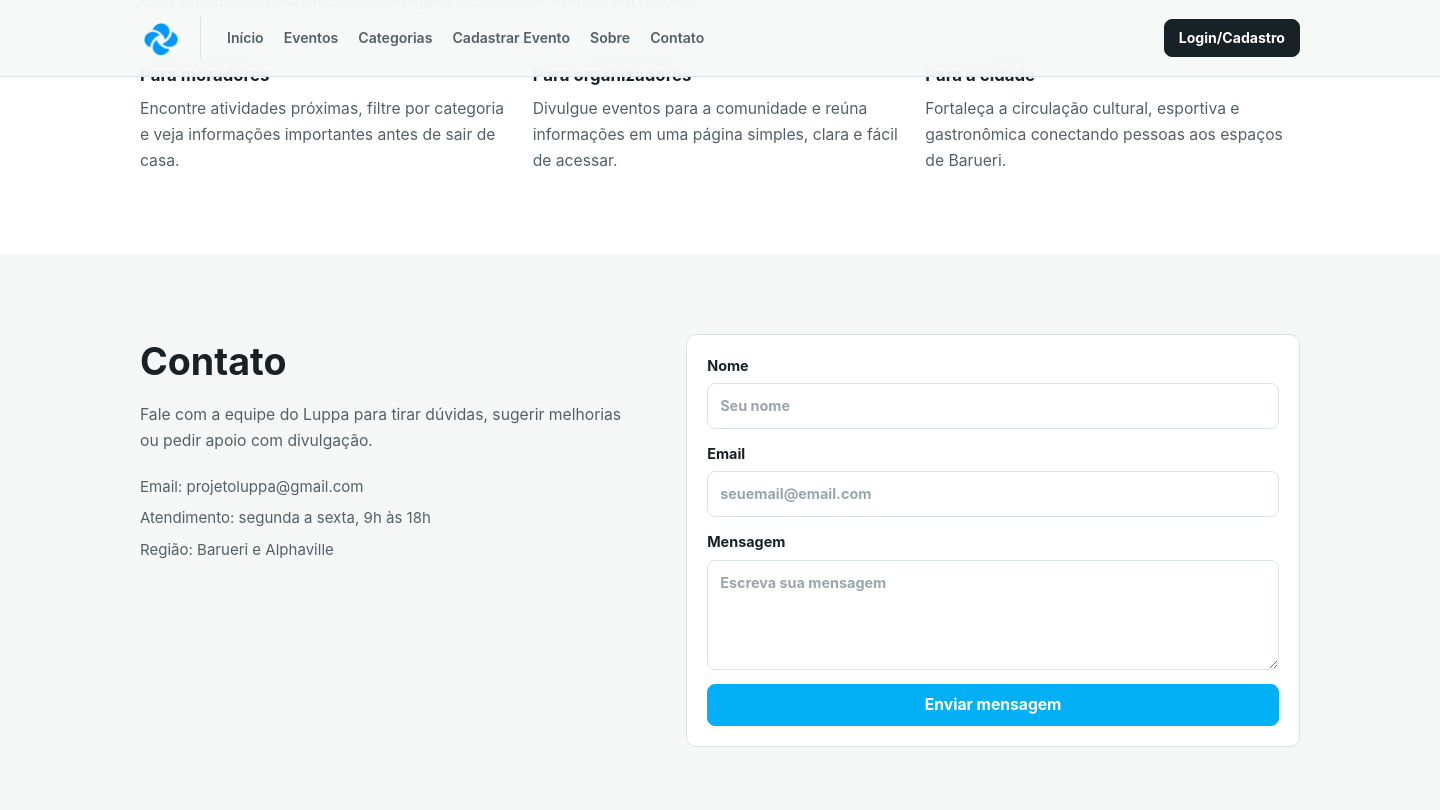
Test: Home contact › preserves the message and shows a real error on provider failure
The width and height of the screenshot is (1440, 810).
(page scrolled)
Type "Ana" into the field with placeholder "Seu nome".
click(993, 406); type("Ana")  # box [707,383,1279,429]
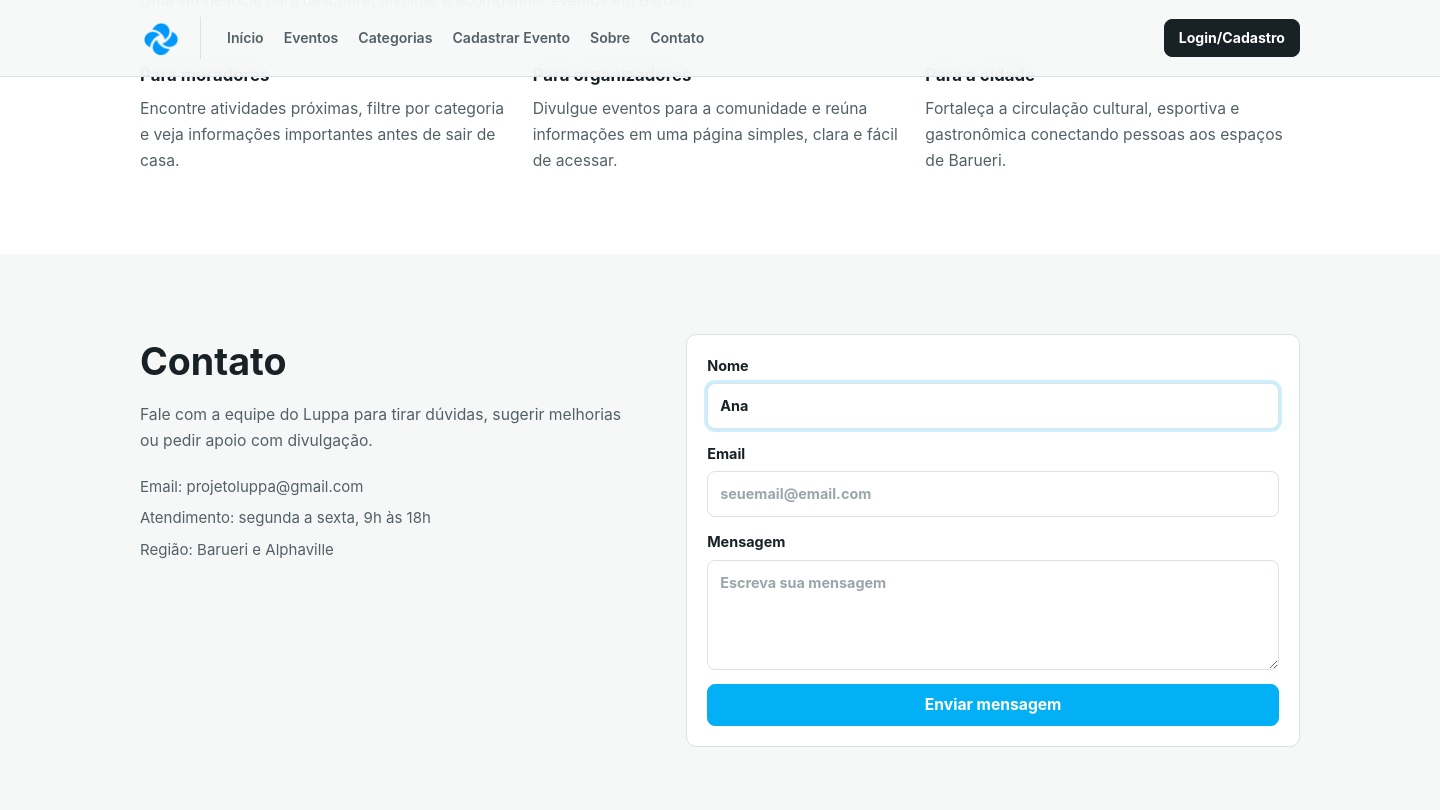
Type "ana@example.com" into the field with placeholder "seuemail@email.com".
click(993, 494); type("ana@example.com")  # box [707,471,1279,517]
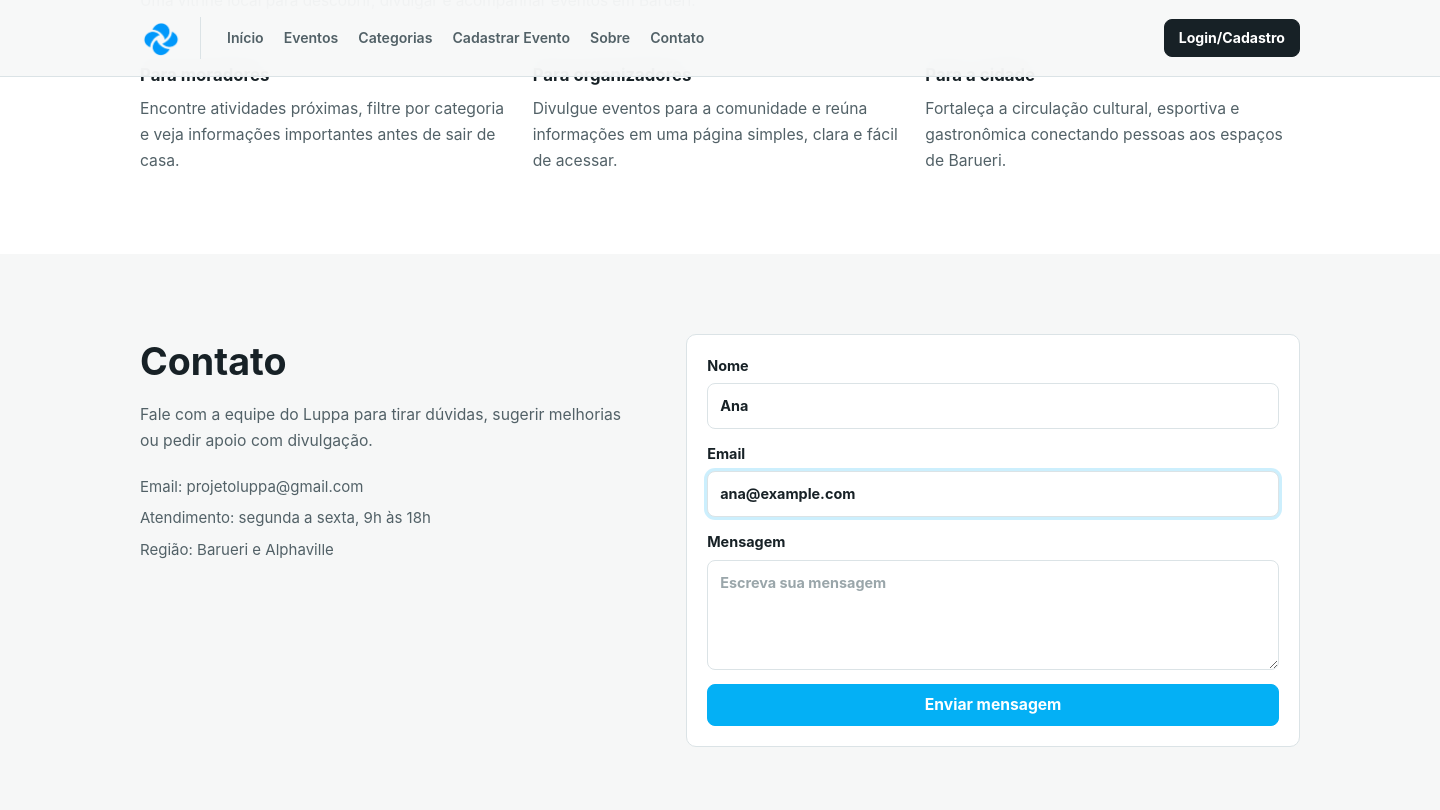
Type "Preciso de ajuda" into the text box with placeholder "Escreva sua mensagem".
click(993, 615); type("Preciso de ajuda")  # box [707,560,1279,670]
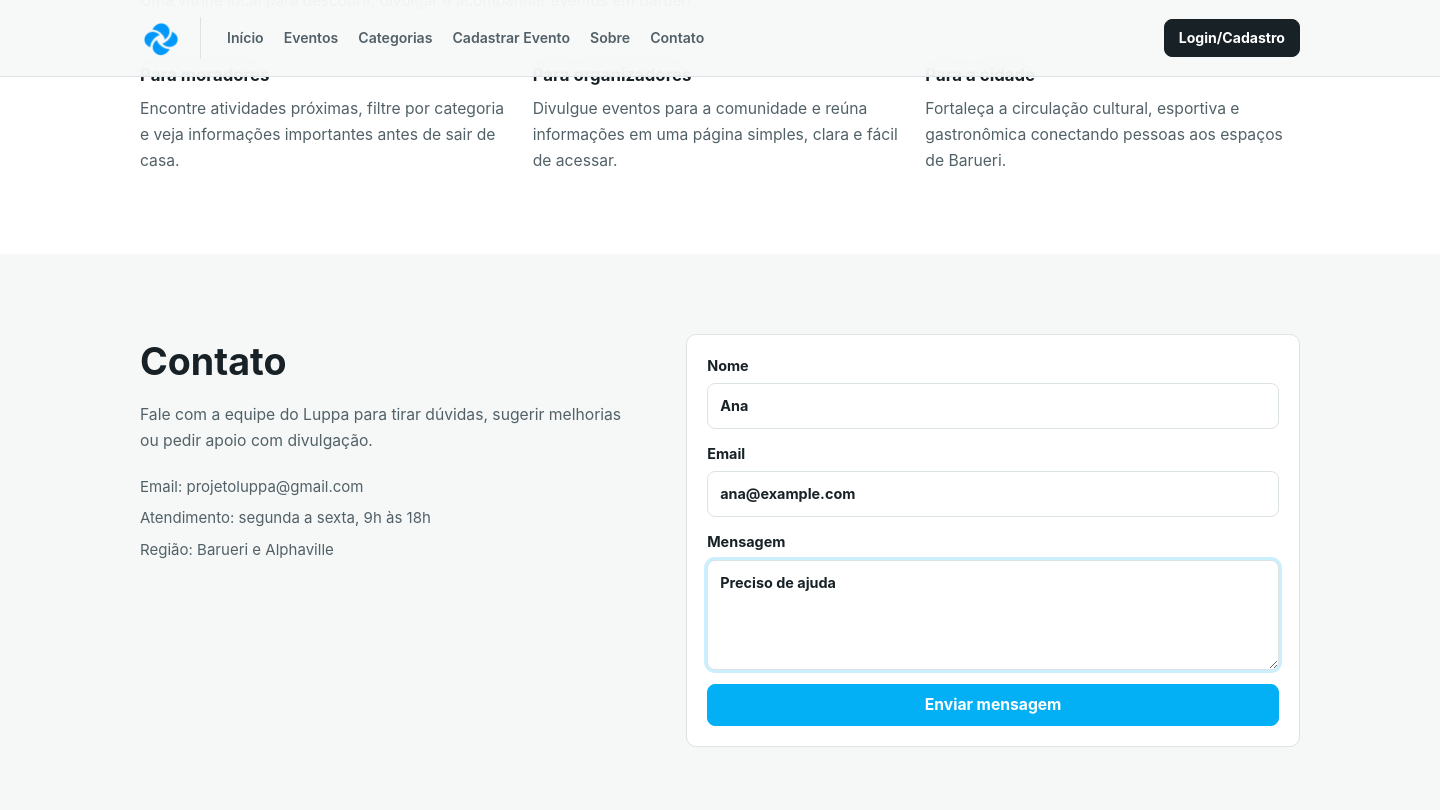
Click the button "Enviar mensagem".
click(993, 705)  # box [707,684,1279,726]
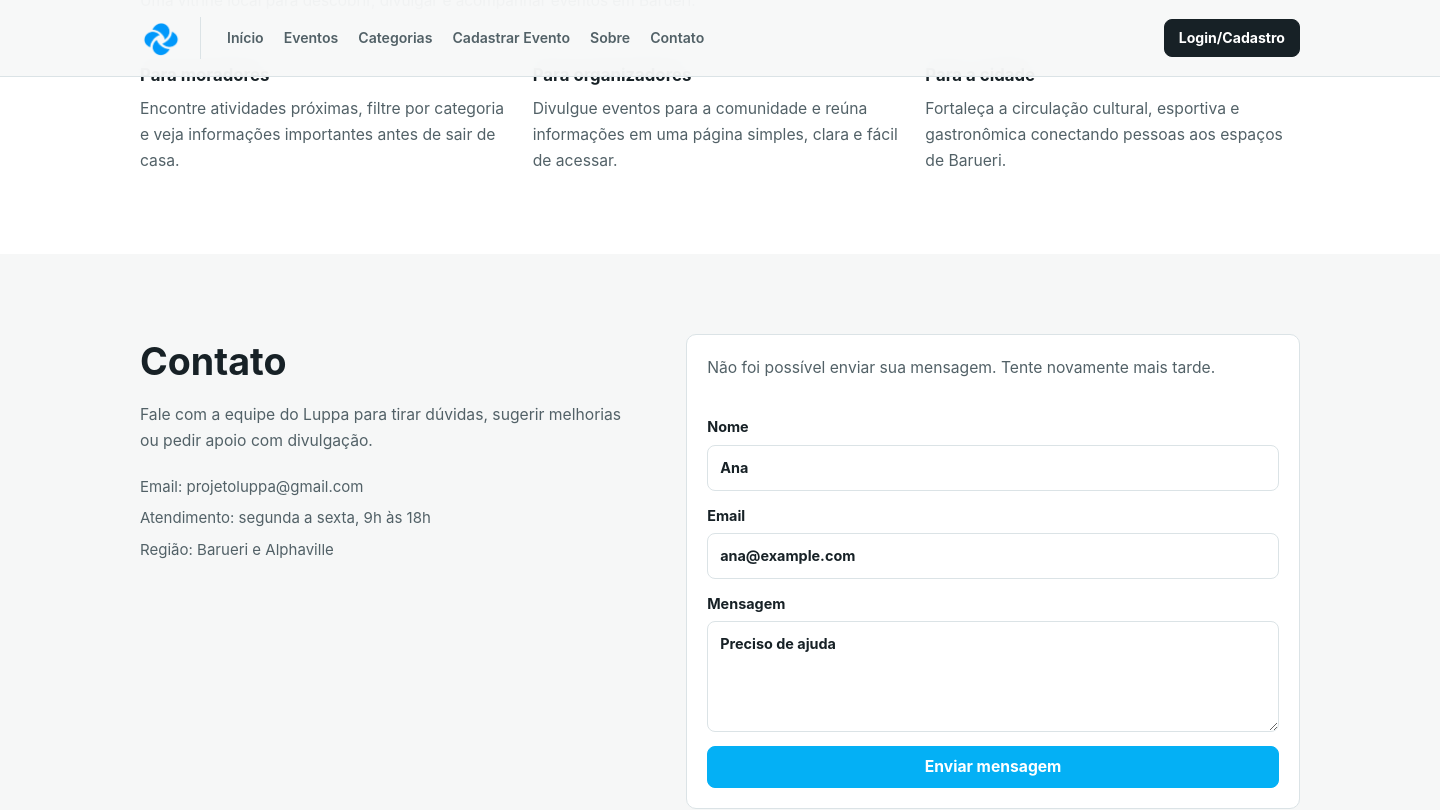
Expected: the message shows "Não foi possível", [707,358,1215,376]
